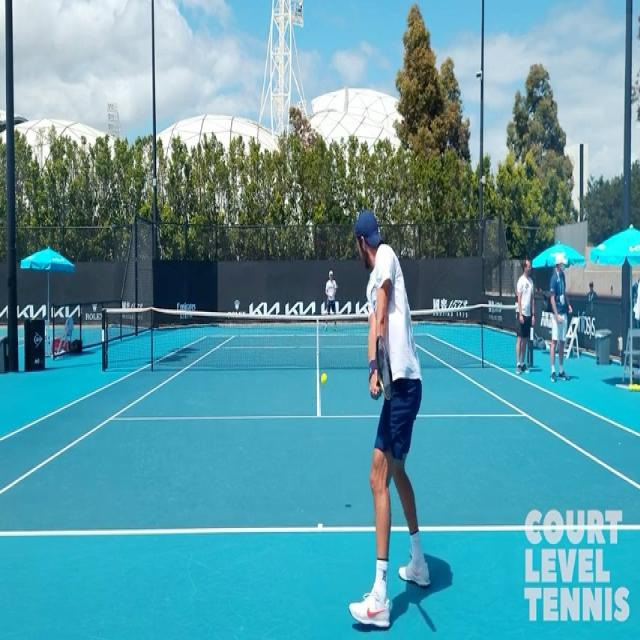backhand-stroke: (346, 201, 421, 640)
